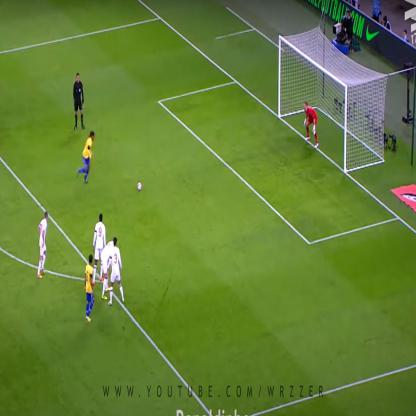penalty kick: (67, 42, 381, 193)
